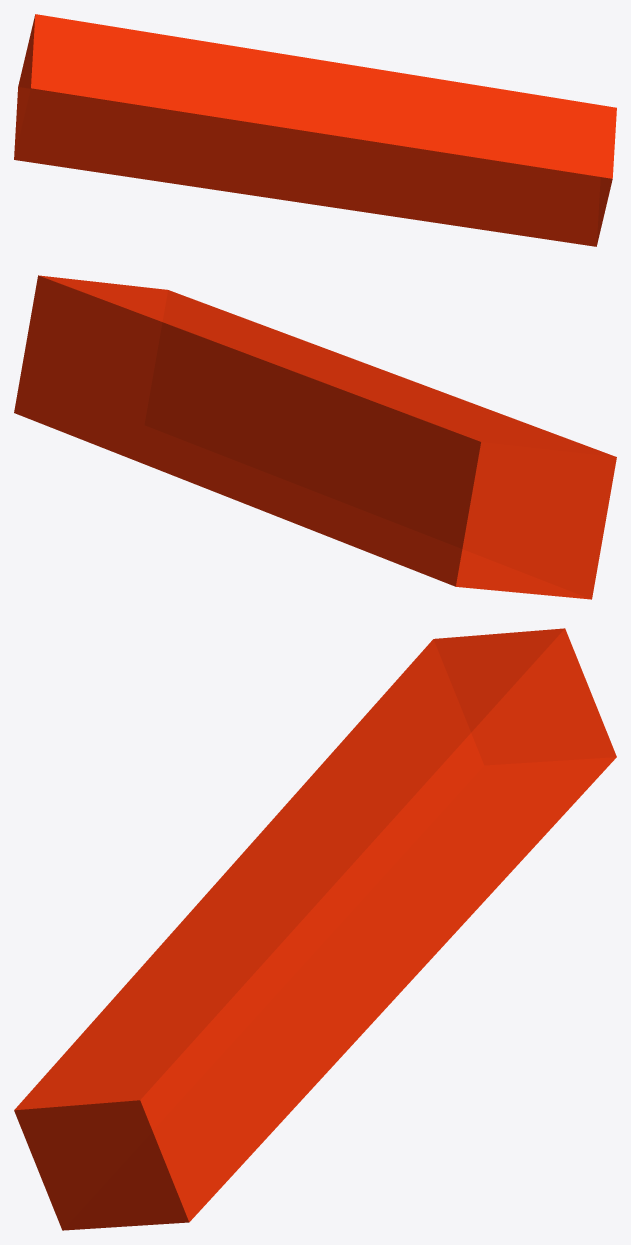
The model's file is Event_420094457_EBrechit_18.fbx.
3 renders of one model, top to bottom at view 1: azimuth 30°, elevation 25°; view 2: azimuth 150°, elevation 25°; view 3: azimuth 270°, elevation 25°, orthographic. The views are drawn at different scales.
Visible parts, largest first — view 1: Model; view 2: Model; view 3: Model.
Part boxes in pixels (x1,y1,x2,y2): Model: (14, 14, 616, 246); Model: (14, 275, 616, 599); Model: (14, 628, 616, 1230).
Bounding box in the file's own units: 0.3331 × 0.1348 × 0.2362.
